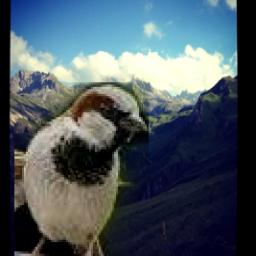Sparrow: (14, 82, 149, 256)
